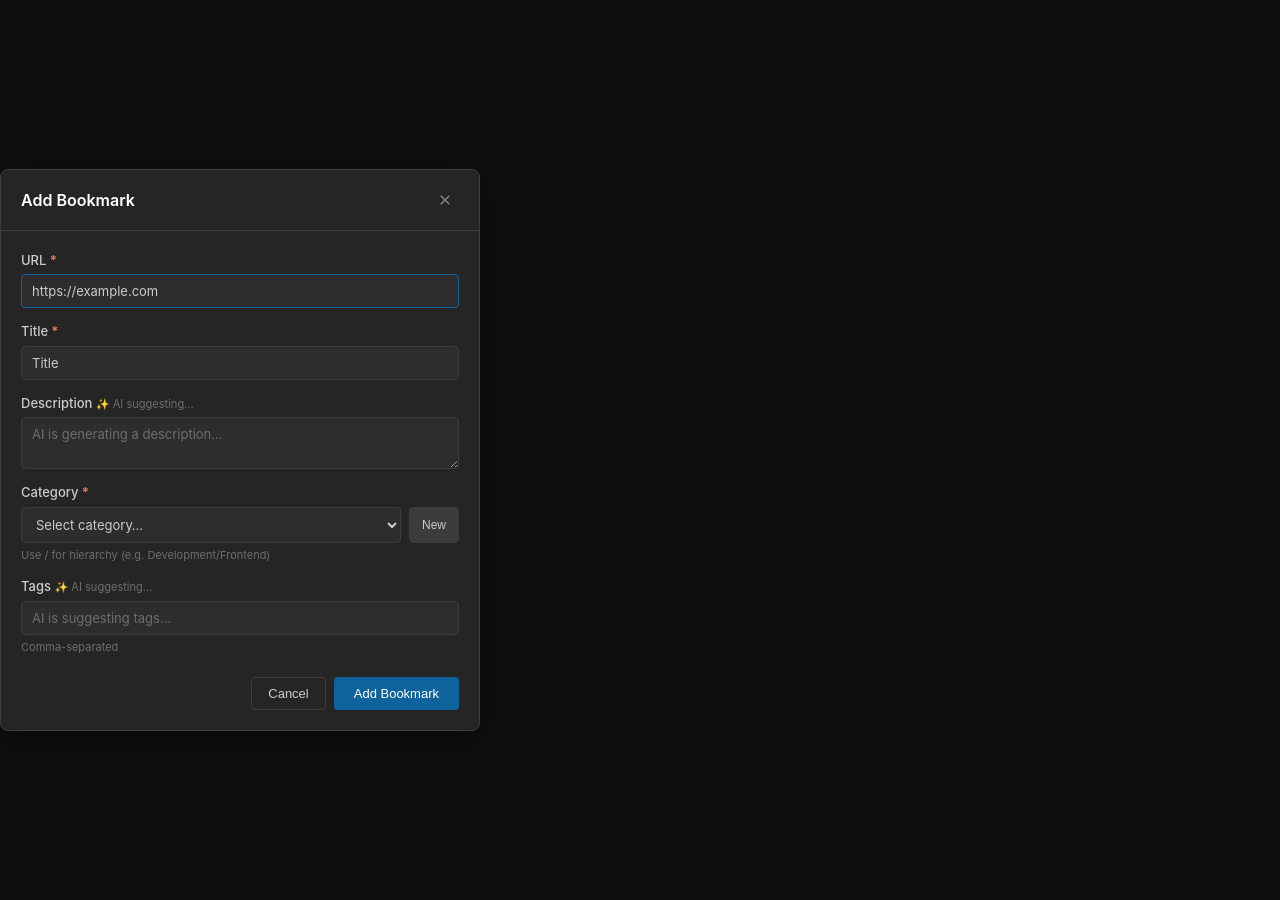
Test: BookmarkDialog › does not override user-edited description with AI suggestion
Type "My own description" into the text box with placeholder "AI is generating a description…" at (240, 443), box [21,417,459,469]
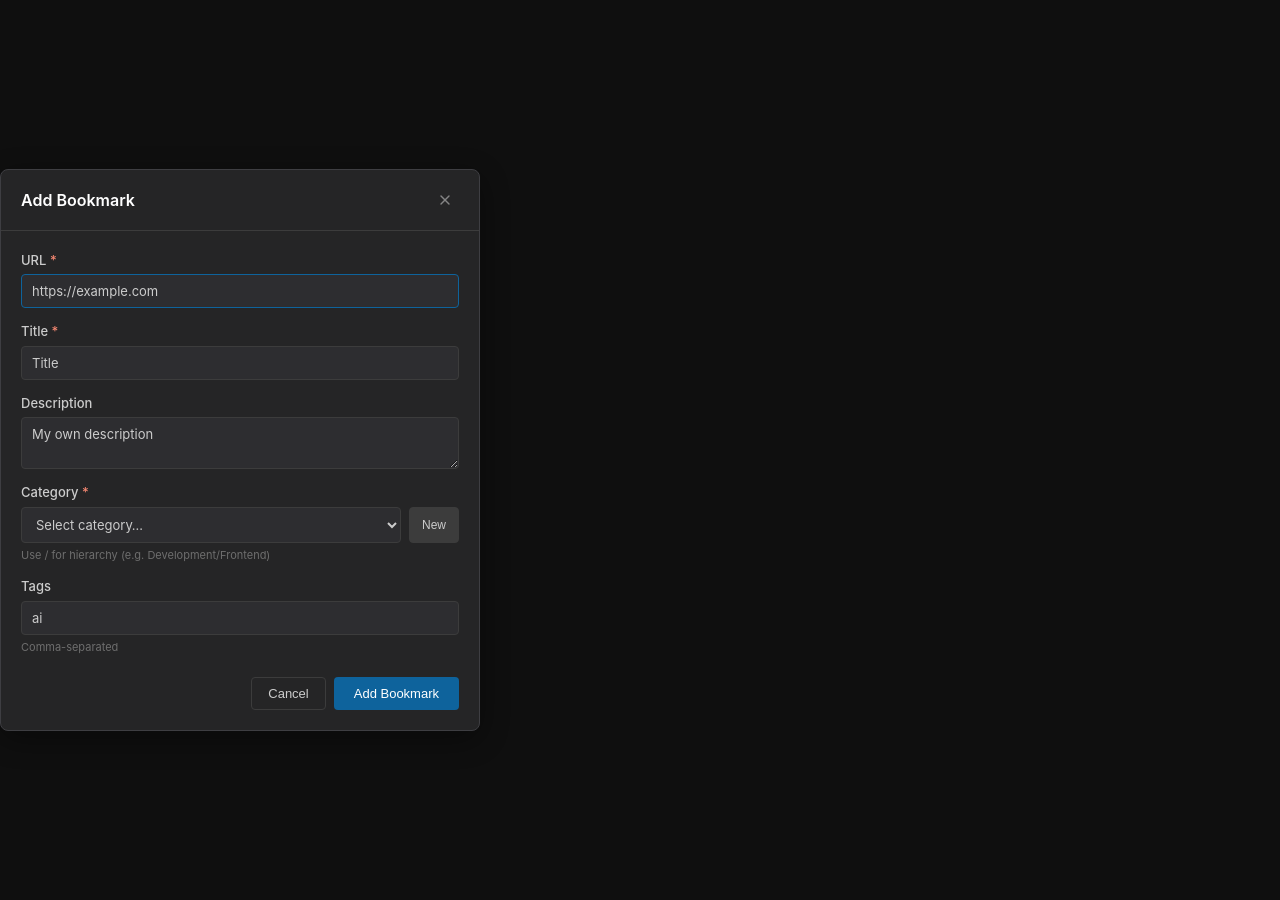
Expected: the field showing "ai" is shown, [21,601,459,635]
Now the text "✨ AI suggesting…" is gone
